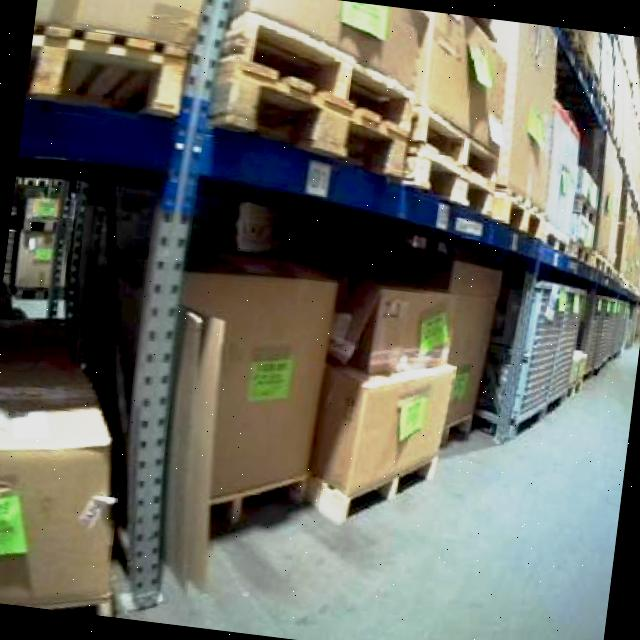ground: (0, 254, 639, 640)
pallet: (9, 0, 640, 302), (0, 309, 150, 616), (206, 6, 427, 179), (302, 344, 456, 534), (473, 270, 587, 446)
